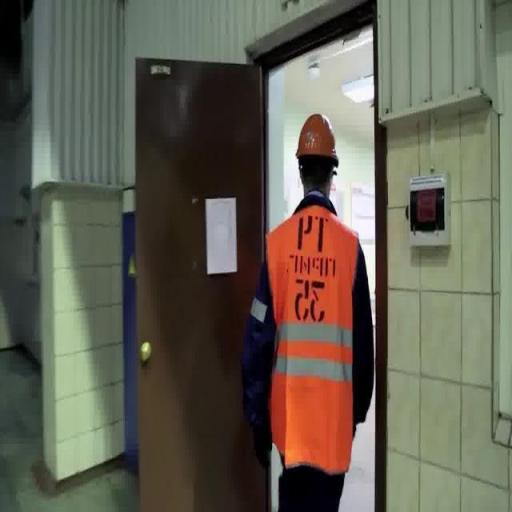Helmet: (296, 112, 338, 164)
Person: (225, 110, 383, 512)
